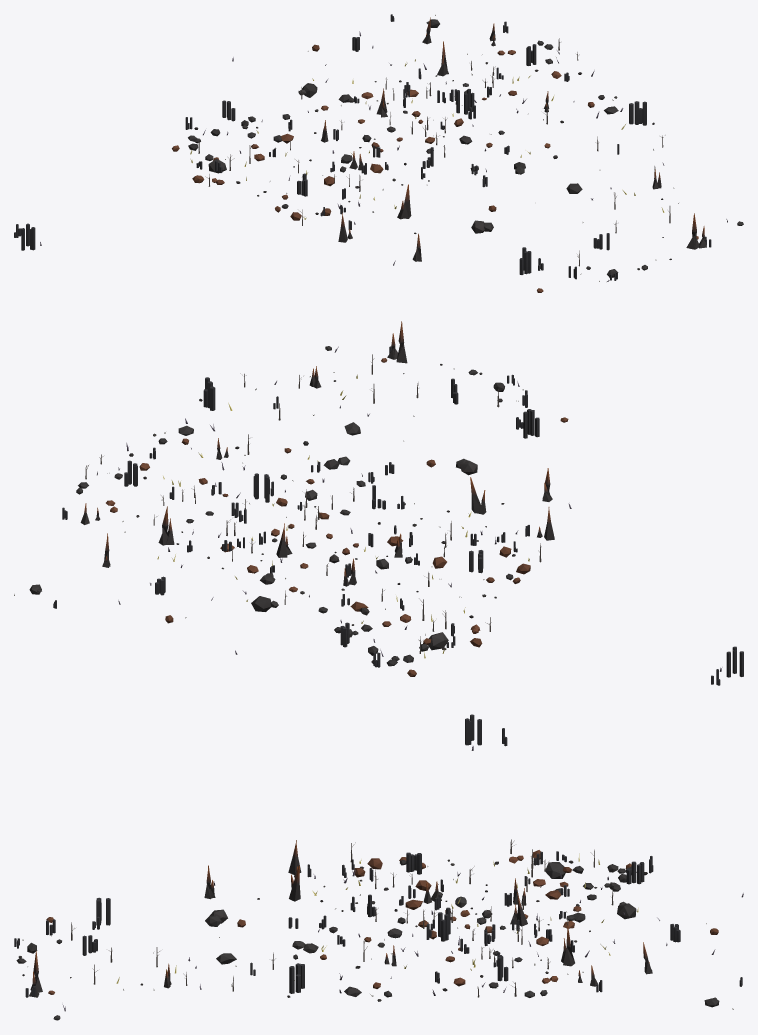
Rendered from ash_land_scatter_c14_29_lod1.glb.
The picture shows the model from 3 angles, top to bottom: view 1: azimuth 30°, elevation 25°; view 2: azimuth 150°, elevation 25°; view 3: azimuth 270°, elevation 25°; orthographic projection. The views are drawn at different scales.
Visible parts, largest first — view 1: ash_land_scatter_c14_29_lod1; view 2: ash_land_scatter_c14_29_lod1; view 3: ash_land_scatter_c14_29_lod1.
Part boxes in pixels (left/top/right/bottom): ash_land_scatter_c14_29_lod1: left=14, top=14, right=743, bottom=292; ash_land_scatter_c14_29_lod1: left=14, top=321, right=743, bottom=685; ash_land_scatter_c14_29_lod1: left=14, top=714, right=743, bottom=1020.
Bounding box in the file's own units: 260 × 34 × 251.
